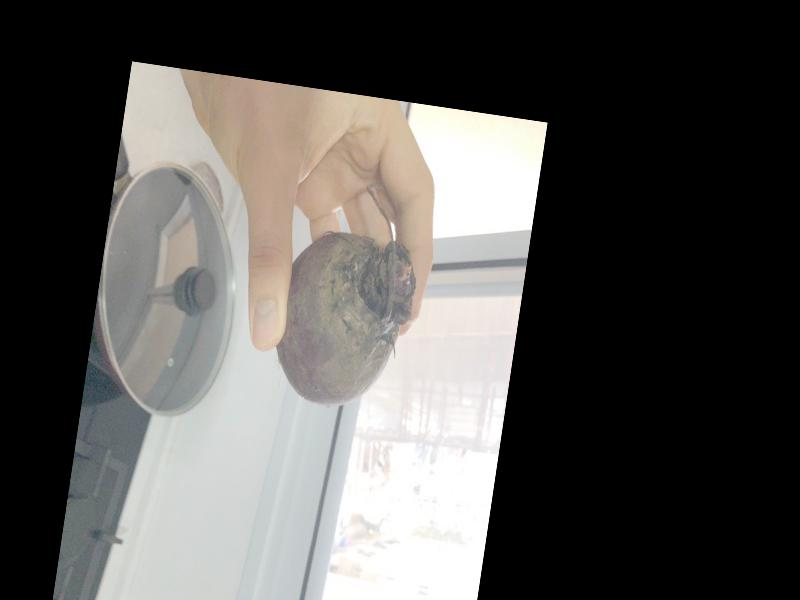Beet: (267, 174, 429, 416)
